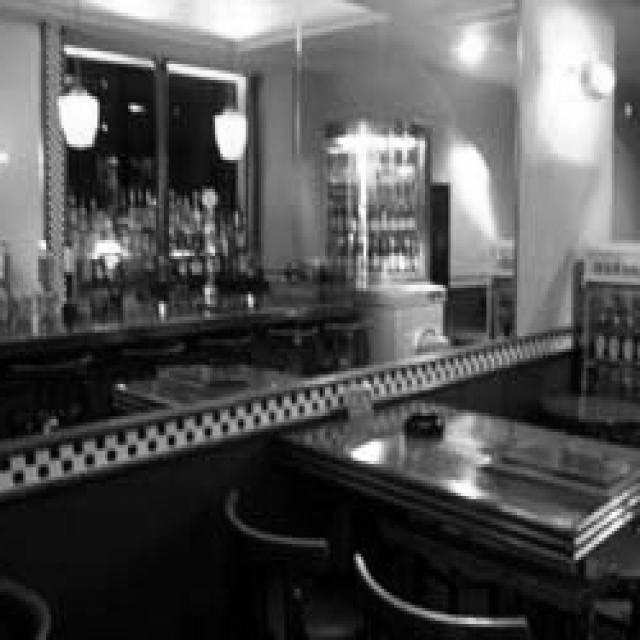2001: (67, 38, 253, 288)
bar stool: (5, 278, 366, 435)
ceililng: (5, 0, 637, 90)
chair cushion: (225, 483, 369, 630), (353, 547, 538, 637)
column occluded: (517, 0, 620, 333)
floor -X: (230, 378, 637, 634)
lamp crop: (59, 54, 102, 144), (218, 93, 248, 157)
showcase occluded: (328, 109, 435, 285)
table -X: (274, 394, 640, 634)
table runner: (113, 368, 238, 413)
wall clock: (5, 13, 520, 438), (5, 314, 607, 634), (604, 80, 640, 384)
